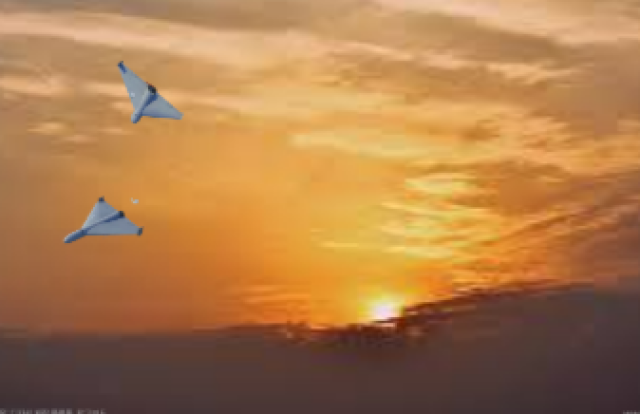military drone: (116, 59, 183, 124), (61, 195, 144, 244)
